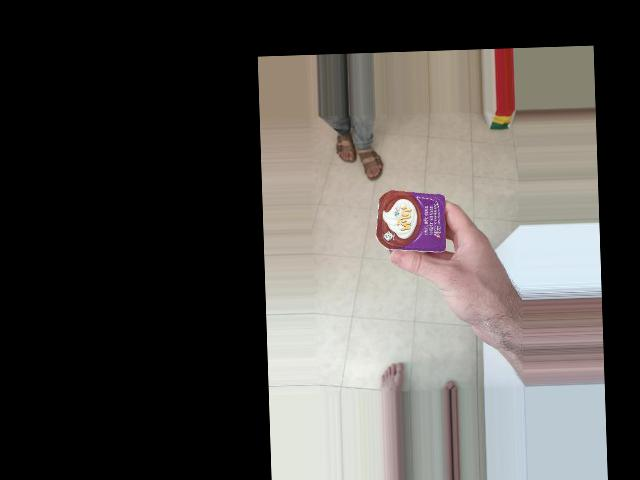milky: (373, 186, 456, 253)
